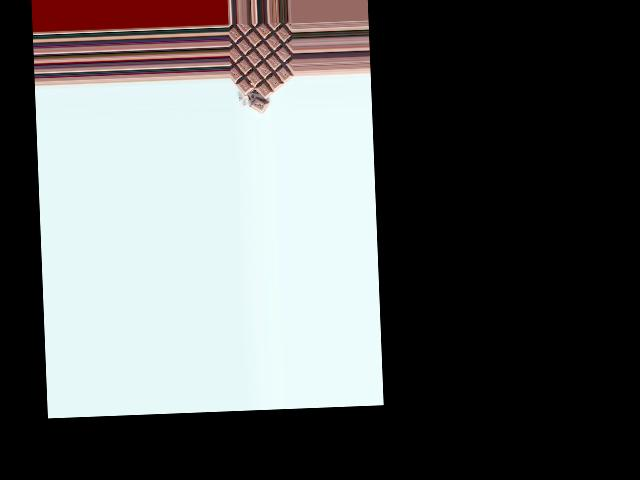chocolate: (229, 21, 292, 105)
